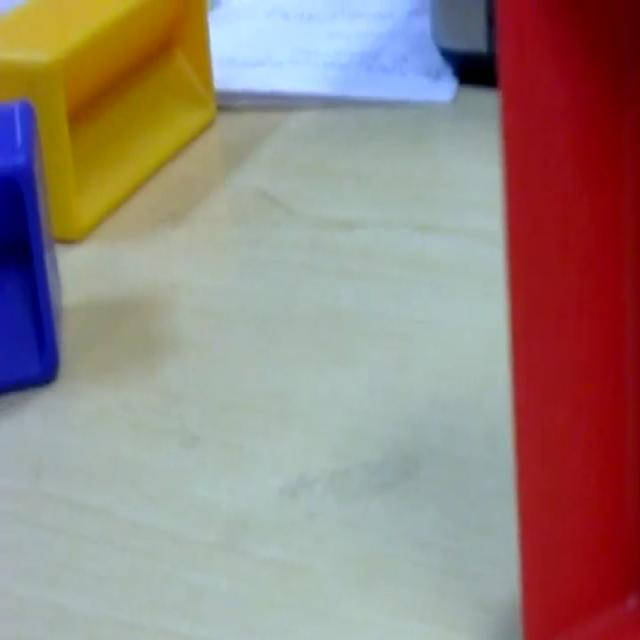blue_block: (0, 97, 63, 395)
red_block: (492, 0, 639, 636)
yellow_block: (0, 0, 217, 241)
